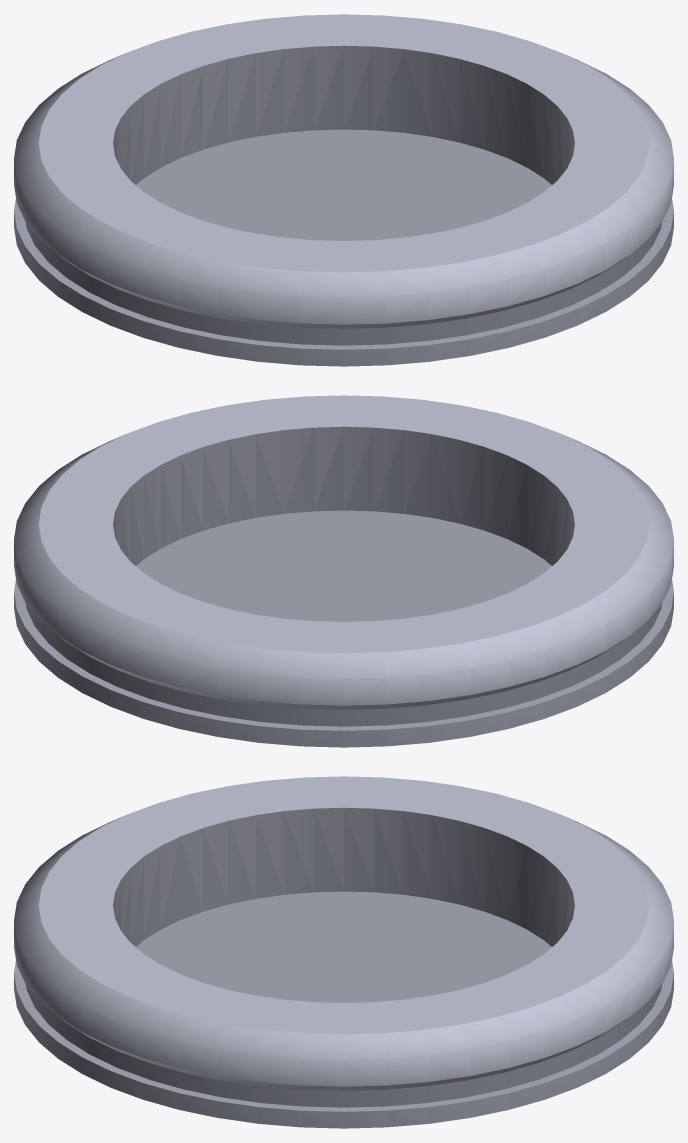
Rendered from fountain-round.glb.
3 renders of one model, top to bottom at view 1: azimuth 30°, elevation 25°; view 2: azimuth 150°, elevation 25°; view 3: azimuth 270°, elevation 25°, orthographic.
Visible parts, largest first — view 1: fountain-round; view 2: fountain-round; view 3: fountain-round.
Boxes of the visible parts, left/top/right/bottom form: fountain-round: left=14, top=14, right=673, bottom=366; fountain-round: left=14, top=395, right=673, bottom=747; fountain-round: left=14, top=776, right=673, bottom=1128.
Size of the model in its own units: 2 by 0.28 by 2.
